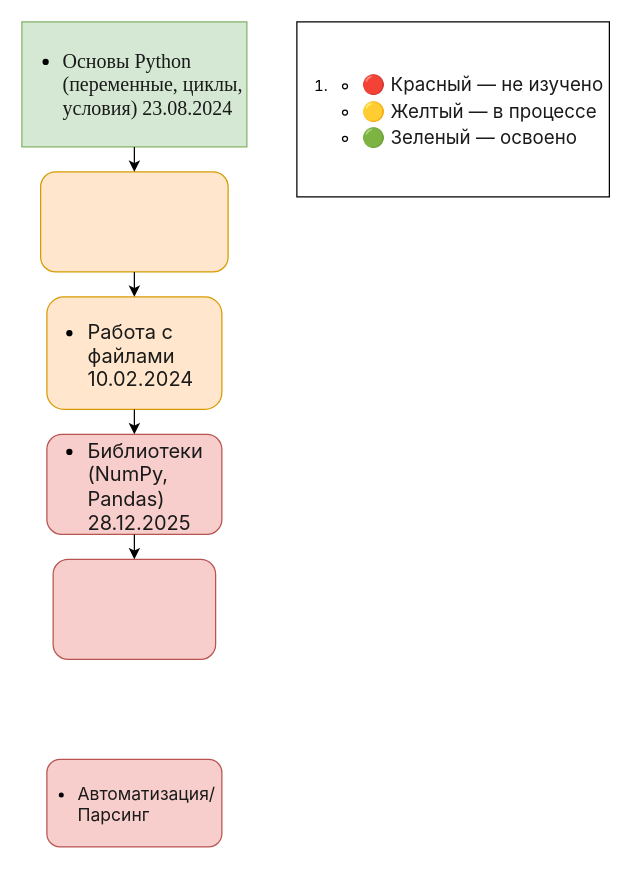
Some shapes in this 631 by 869 pixel diagram are drawn without their labels. Each missing label, with the centre of its shape:
"Веб (Django/Flask) 9.03.2025" belongs at pixel 134 608.
"Функции и ООП 5.02.2025" belongs at pixel 133 221.
